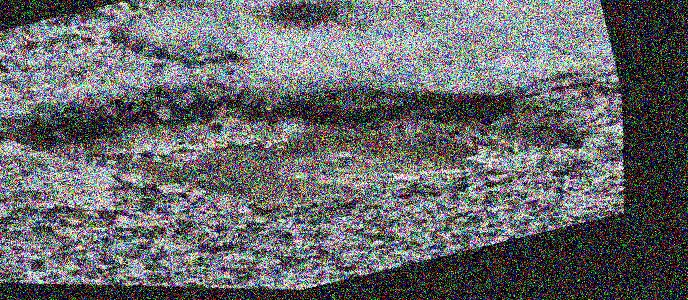pothole: (0, 0, 620, 300), (255, 0, 357, 50)
